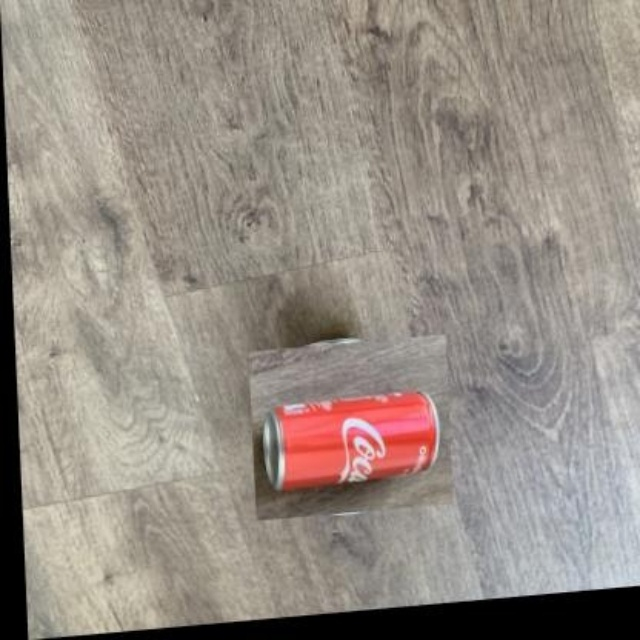trash: (263, 394, 438, 489)
